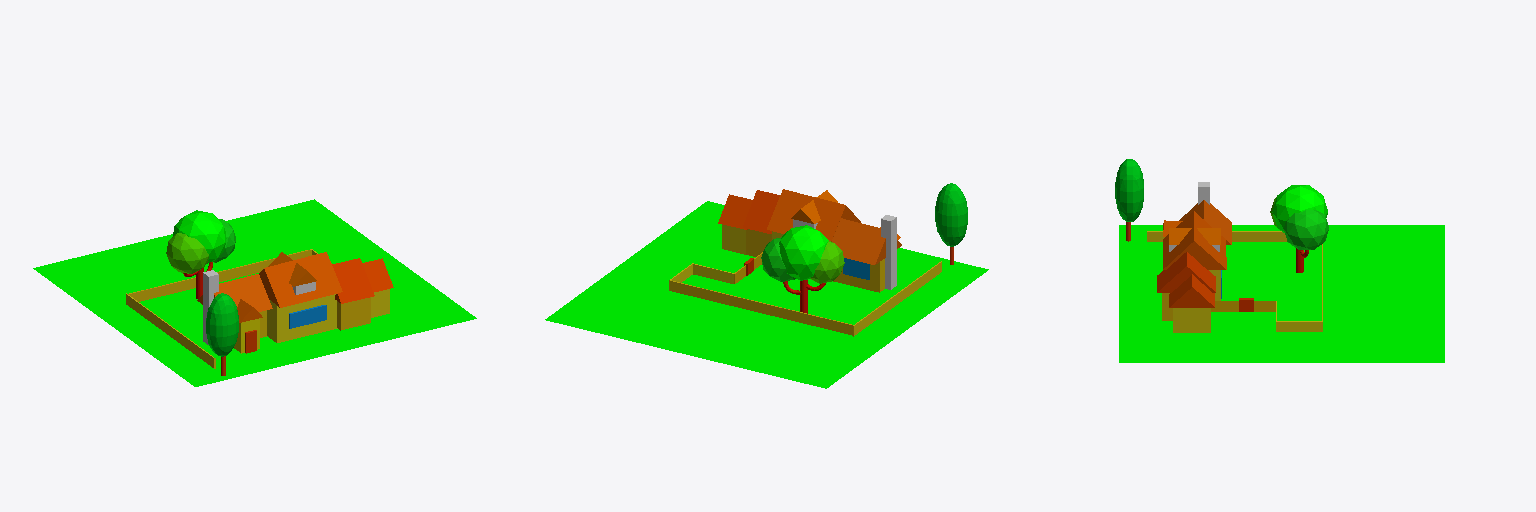
Rendered from p&fhome.obj.
3 views of the same model, side by side, from view 1: azimuth 30°, elevation 25°; view 2: azimuth 150°, elevation 25°; view 3: azimuth 270°, elevation 25° (orthographic).
Visible parts, largest first — view 1: Plane, Cube.009_Cube.015, Cube.006_Cube.012, Mball_Mball.001, Icosphere_Icosphere.001, Cube.001_Cube.003, Icosphere.001_Icosphere.002, Cube.010_Cube.016, Cube.012_Cube.018, Cube_Cube.002, Cube.007_Cube.013, Cube.011_Cube.017 (+2 smaller); view 2: Plane, Cube.009_Cube.015, Cube.001_Cube.003, Icosphere_Icosphere.001, Cube.012_Cube.018, Mball_Mball.001, Cube_Cube.002, Cube.010_Cube.016, Cube.015_Cube.021, Icosphere.001_Icosphere.002, Icosphere.002_Icosphere.003, Cube.011_Cube.017 (+2 smaller); view 3: Plane, Cube.009_Cube.015, Mball_Mball.001, Icosphere.002_Icosphere.003, Icosphere_Icosphere.001, Cube.010_Cube.016, Cube.011_Cube.017, Cube.008_Cube.014, Cube.012_Cube.018, Cube_Cube.002, Cube.014_Cube.020.
Boxes of the visible parts, x1,y1,x2,y2 form: Plane: [33, 199, 476, 386]; Cube.009_Cube.015: [259, 252, 342, 307]; Cube.006_Cube.012: [267, 294, 337, 342]; Mball_Mball.001: [206, 293, 238, 356]; Icosphere_Icosphere.001: [173, 210, 226, 263]; Cube.001_Cube.003: [127, 249, 311, 301]; Icosphere.001_Icosphere.002: [166, 233, 208, 273]; Cube.010_Cube.016: [332, 258, 374, 303]; Cube.012_Cube.018: [197, 274, 272, 311]; Cube_Cube.002: [126, 293, 215, 368]; Cube.007_Cube.013: [337, 297, 370, 330]; Cube.011_Cube.017: [362, 258, 393, 291]; Plane: [545, 201, 988, 388]; Cube.009_Cube.015: [767, 189, 860, 241]; Cube.001_Cube.003: [670, 280, 853, 335]; Icosphere_Icosphere.001: [779, 225, 828, 280]; Cube.012_Cube.018: [832, 218, 901, 264]; Mball_Mball.001: [935, 183, 967, 246]; Cube_Cube.002: [853, 261, 941, 336]; Cube.010_Cube.016: [743, 190, 779, 233]; Cube.015_Cube.021: [881, 215, 896, 289]; Icosphere.001_Icosphere.002: [810, 241, 844, 283]; Icosphere.002_Icosphere.003: [761, 237, 795, 281]; Cube.011_Cube.017: [718, 194, 752, 229]; Plane: [1119, 225, 1444, 362]; Cube.009_Cube.015: [1163, 211, 1226, 269]; Mball_Mball.001: [1115, 159, 1143, 221]; Icosphere.002_Icosphere.003: [1283, 210, 1328, 249]; Icosphere_Icosphere.001: [1272, 185, 1327, 232]; Cube.010_Cube.016: [1157, 252, 1215, 292]; Cube.011_Cube.017: [1169, 274, 1214, 307]; Cube.008_Cube.014: [1173, 308, 1210, 332]; Cube.012_Cube.018: [1179, 200, 1231, 244]; Cube_Cube.002: [1147, 231, 1286, 241]; Cube.014_Cube.020: [1169, 228, 1220, 244].
Bounding box in the file's own units: 77.51 × 24.8 × 78.45.